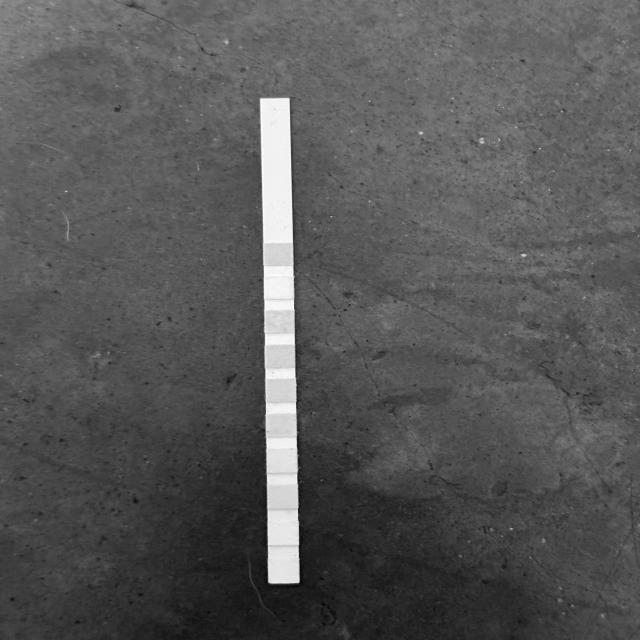Bilirubin: (265, 278, 292, 298)
Blood: (267, 380, 295, 401)
Glucose: (264, 243, 293, 265)
Ketone: (266, 311, 294, 332)
Leukocytes: (269, 561, 299, 582)
Nitrite: (270, 522, 298, 544)
Protein: (268, 451, 296, 472)
SpGravity: (266, 346, 294, 367)
Urobilinogen: (269, 485, 297, 508)
background: (0, 0, 640, 640)
pH: (268, 416, 295, 436)
strip: (261, 100, 300, 583)
